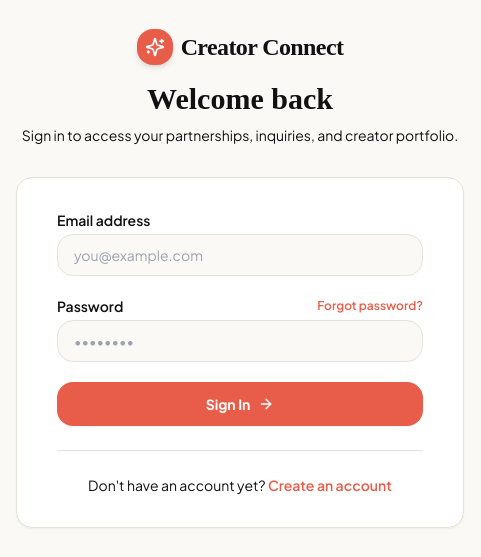
Test: Phase 3B Comprehensive Frontend E2E & Flow Verification › 3. Login Flow Scenarios (Section 10) › redirects unverified user to /verify-email upon login
In the field labelled "Email address": (240, 254) [57, 234, 423, 276], type "unverified@example.com"
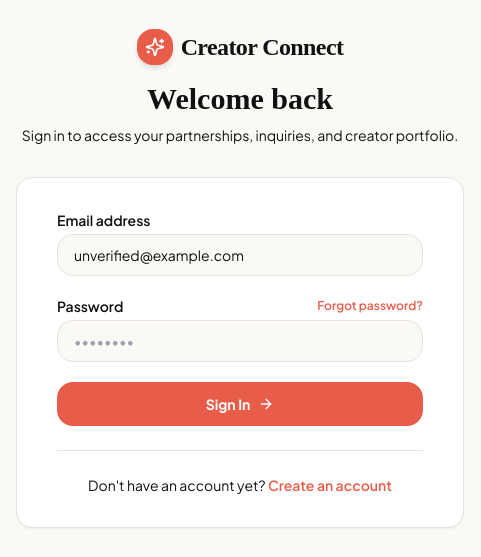
In the password field labelled "Password": (240, 340) [57, 320, 423, 362], type "Password123!"
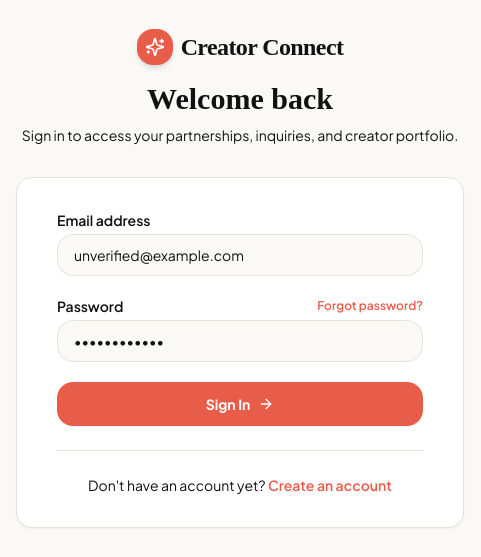
Click the button "Sign In": (240, 404) [57, 382, 423, 426]
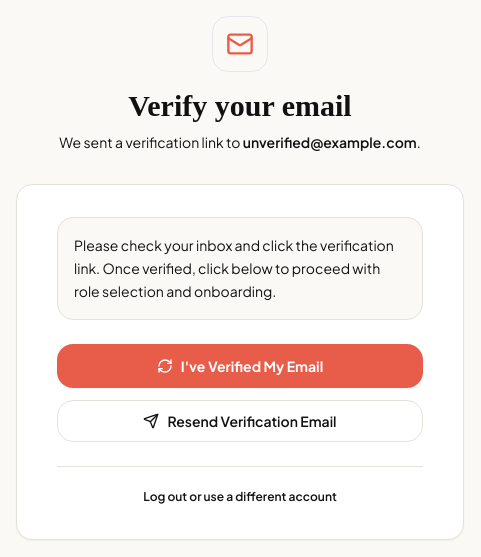
Expected: the heading "Verify your email" is shown, [128, 89, 352, 122]
